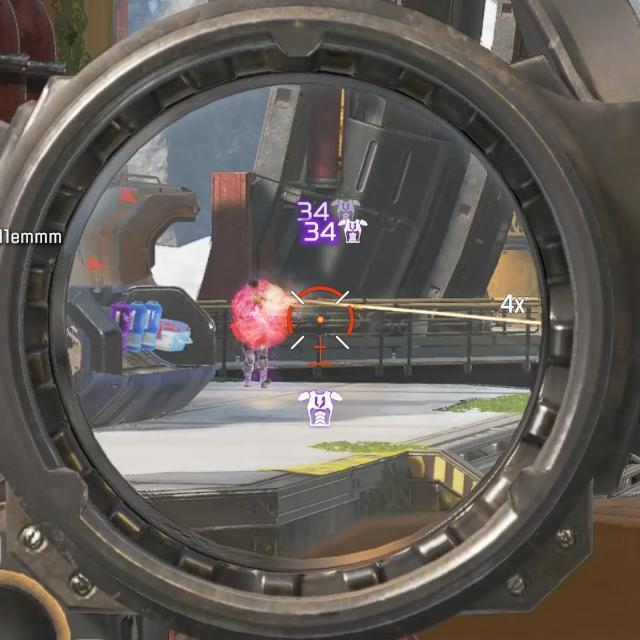avatar: (239, 276, 274, 389)
object: (230, 280, 290, 348)
